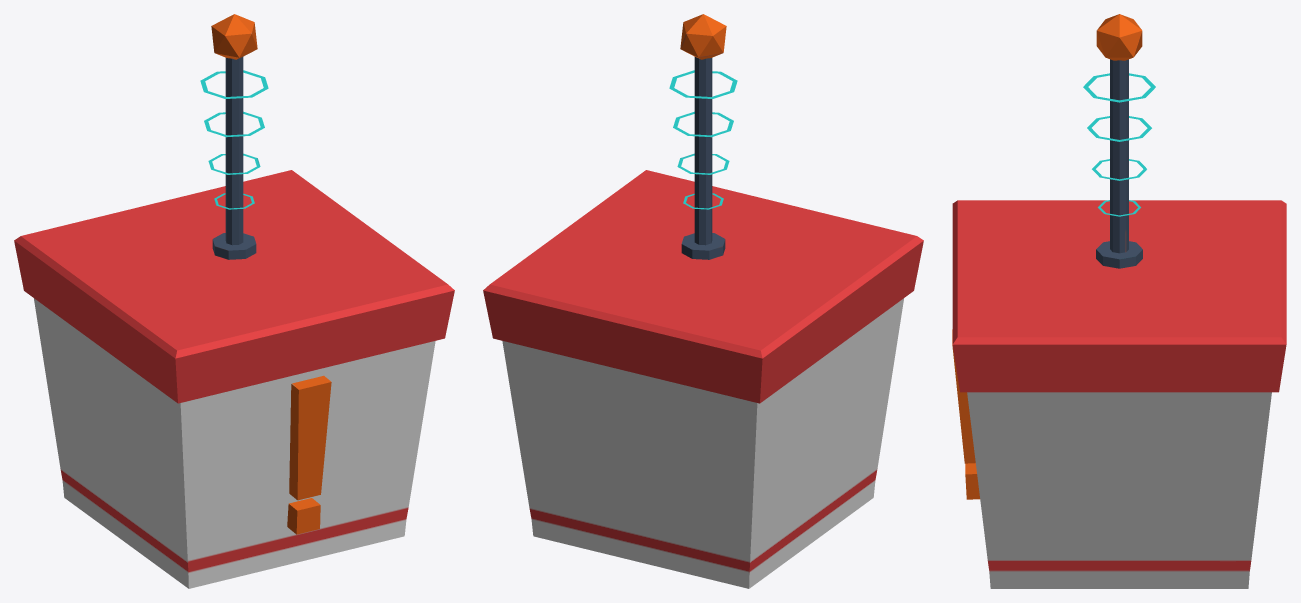
3 renders of one model, left to right at view 1: azimuth 30°, elevation 25°; view 2: azimuth 150°, elevation 25°; view 3: azimuth 270°, elevation 25°, orthographic. The views are drawn at different scales.
Parts seen in each view (by area): view 1: 立方体.017; view 2: 立方体.017; view 3: 立方体.017.
Boxes of the visible parts, left/top/right/bottom form: 立方体.017: left=14, top=14, right=454, bottom=588; 立方体.017: left=483, top=14, right=923, bottom=588; 立方体.017: left=952, top=14, right=1286, bottom=588.
Bounding box in the file's own units: 65.28 × 112 × 65.31.
1 material, 1 textured.
